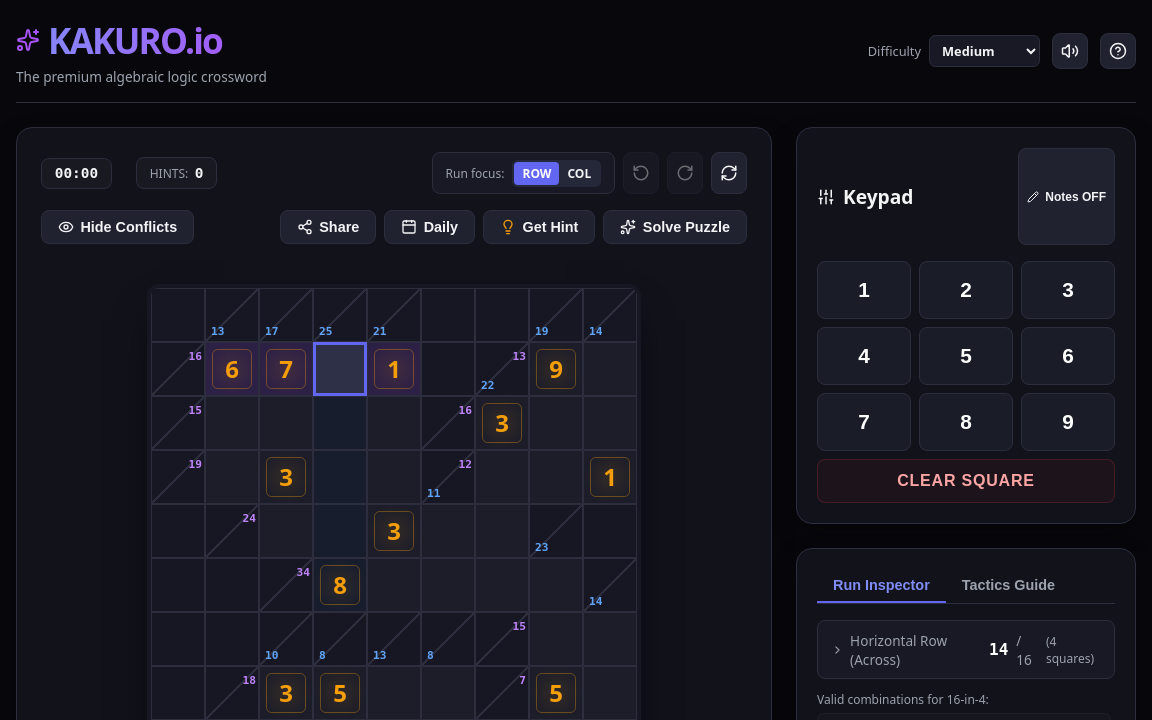
Test: App integration › hint button explains or fills a cell and shows an announcement
Click the button with aria-label "get a hint".
click(539, 227)  # box x1=483 y1=210 x2=596 y2=244
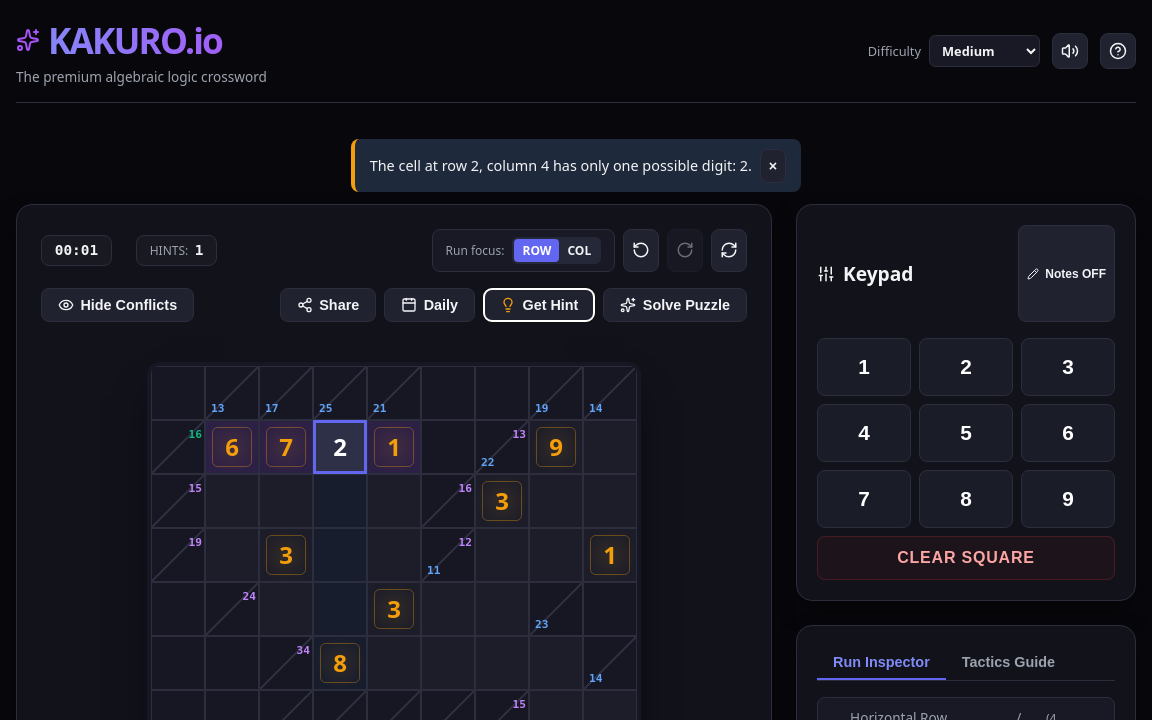
Expected: the element with class "hint-banner" is shown, x1=351 y1=139 x2=801 y2=192
